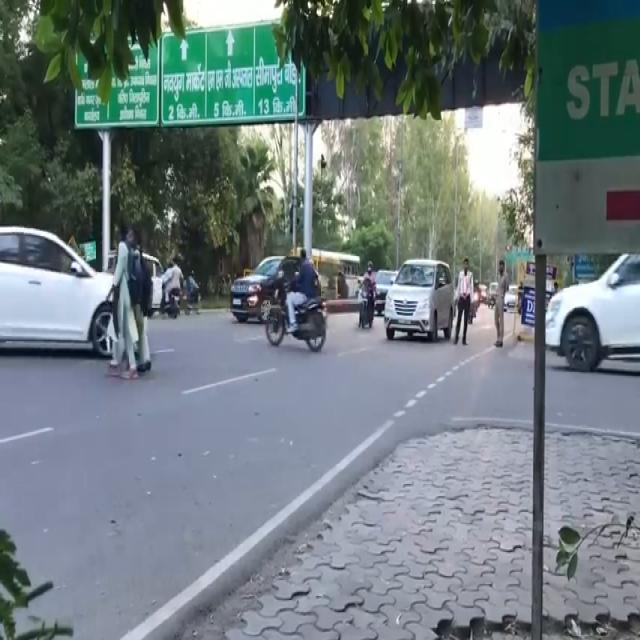MOTORCYCLE: (264, 280, 328, 353), (358, 282, 376, 330)
SUV: (383, 258, 454, 345)
